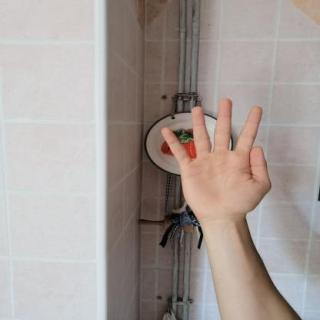SHEEN: (152, 93, 280, 224)
